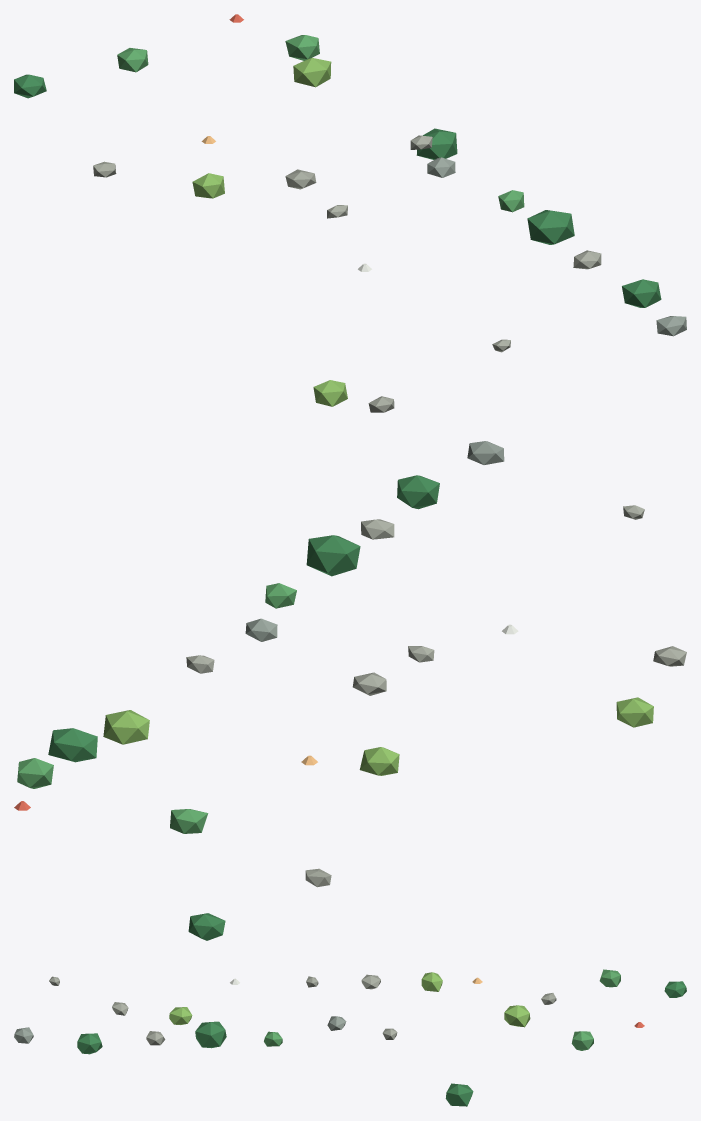
Rendered from sm_env_route_tunnel_hill_props.glb.
3 renders of one model, top to bottom at view 1: azimuth 30°, elevation 25°; view 2: azimuth 150°, elevation 25°; view 3: azimuth 270°, elevation 25°, orthographic. The views are drawn at different scales.
Parts seen in each view (by area): view 1: Bush.002, Bush.006, Bush, Bush.005, Bush.001, Bush.007, Bush.004, Bush.008, Bush.009; view 2: Bush.002, Bush.005, Bush.006, Bush, Bush.004, Bush.007, Bush.001, Bush.008, Bush.009; view 3: Bush.002, Bush.005, Bush.006, Bush, Bush.007, Bush.004, Bush.001, Bush.008, Bush.009, Rock, Bush.003.
Part boxes in pixels (x1,y1,x2,y2): Bush.002: [527, 210, 574, 244]; Bush.006: [293, 58, 331, 87]; Bush: [622, 279, 661, 307]; Bush.005: [416, 128, 457, 159]; Bush.001: [313, 380, 347, 406]; Bush.007: [285, 35, 319, 60]; Bush.004: [192, 173, 224, 198]; Bush.008: [117, 48, 148, 72]; Bush.009: [14, 74, 46, 98]; Bush.002: [306, 535, 360, 576]; Bush.005: [48, 728, 97, 762]; Bush.006: [103, 710, 149, 744]; Bush: [397, 475, 439, 509]; Bush.004: [359, 747, 399, 775]; Bush.007: [17, 758, 53, 788]; Bush.001: [616, 697, 653, 727]; Bush.008: [170, 809, 208, 833]; Bush.009: [188, 913, 225, 940]; Bush.002: [195, 1021, 226, 1048]; Bush.005: [445, 1083, 473, 1106]; Bush.006: [504, 1005, 530, 1027]; Bush: [77, 1033, 102, 1054]; Bush.007: [571, 1031, 593, 1050]; Bush.004: [421, 972, 442, 991]; Bush.001: [169, 1007, 192, 1024]; Bush.008: [599, 969, 620, 987]; Bush.009: [664, 981, 686, 997]; Rock: [14, 1027, 33, 1043]; Bush.003: [264, 1031, 282, 1046].
Bounding box in the file's own units: 17.96 × 6.74 × 43.18.
